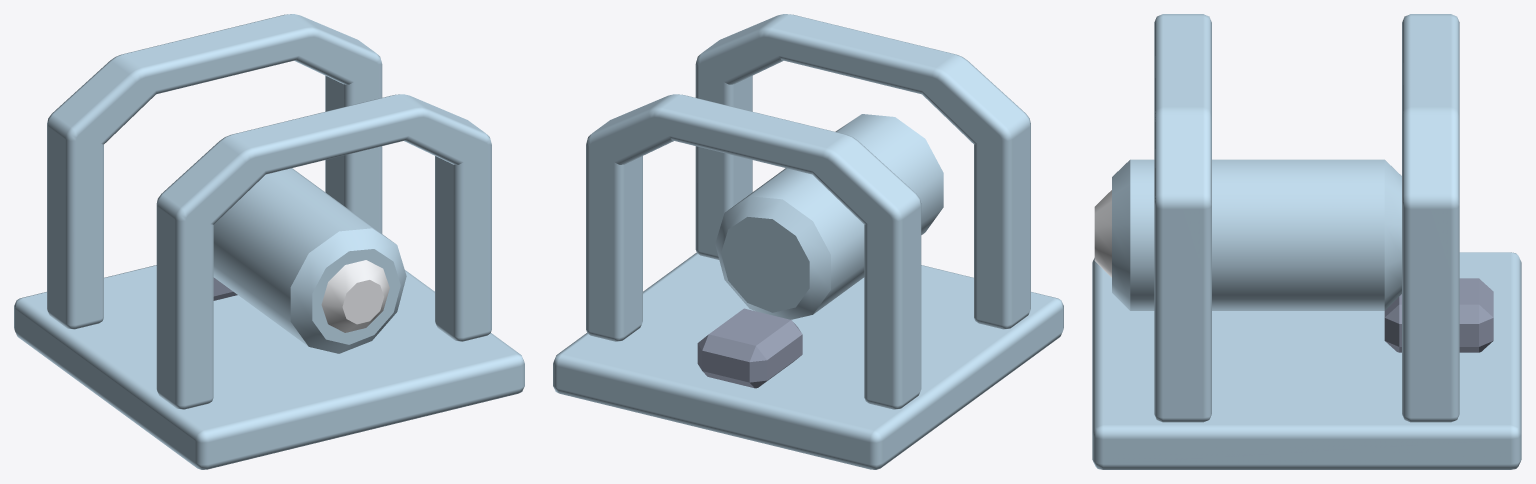
The model's file is R4X_WeaponDurabilityBooster.glb.
3 views of the same model, side by side, from view 1: azimuth 30°, elevation 25°; view 2: azimuth 150°, elevation 25°; view 3: azimuth 270°, elevation 25° (orthographic). The views are drawn at different scales.
Parts seen in each view (by area): view 1: R4X_WeaponDurabilityBooster_Body; view 2: R4X_WeaponDurabilityBooster_Body; view 3: R4X_WeaponDurabilityBooster_Body.
Boxes of the visible parts, x1,y1,x2,y2 form: R4X_WeaponDurabilityBooster_Body: [14, 14, 524, 469]; R4X_WeaponDurabilityBooster_Body: [553, 14, 1063, 469]; R4X_WeaponDurabilityBooster_Body: [1092, 14, 1521, 469].
Bounding box in the file's own units: 0.52 × 0.43 × 0.52.
